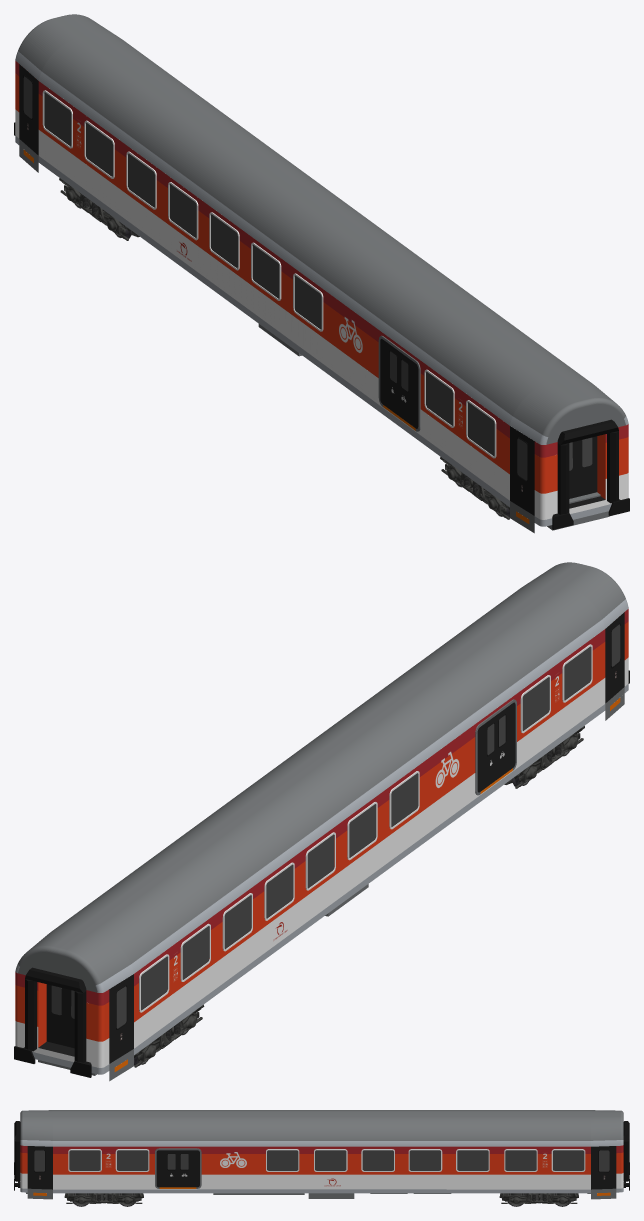
File: bds.glb
3 views of the same model, one above another, from view 1: azimuth 30°, elevation 25°; view 2: azimuth 150°, elevation 25°; view 3: azimuth 270°, elevation 25° (orthographic). The views are drawn at different scales.
Parts seen in each view (by area): view 1: bds.003, okno ampeer.018, DB218_Chassis_Boggies.110, DB218_Chassis_Boggies.111; view 2: bds.003, okno ampeer.018, DB218_Chassis_Boggies.111, DB218_Chassis_Boggies.110; view 3: bds.003, okno ampeer.018, DB218_Chassis_Boggies.110, DB218_Chassis_Boggies.111, bmz podvozok.009, piktogramy bds.001.
Boxes of the visible parts, x1=… form: bds.003: x1=14, y1=14, x2=629, y2=533; okno ampeer.018: x1=42, y1=90, x2=496, y2=458; DB218_Chassis_Boggies.110: x1=59, y1=178, x2=139, y2=240; DB218_Chassis_Boggies.111: x1=440, y1=457, x2=509, y2=519; bds.003: x1=14, y1=562, x2=629, y2=1081; okno ampeer.018: x1=139, y1=644, x2=592, y2=1012; DB218_Chassis_Boggies.111: x1=504, y1=726, x2=584, y2=788; DB218_Chassis_Boggies.110: x1=134, y1=1004, x2=204, y2=1067; bds.003: x1=14, y1=1110, x2=629, y2=1199; okno ampeer.018: x1=68, y1=1148, x2=585, y2=1188; DB218_Chassis_Boggies.110: x1=499, y1=1193, x2=578, y2=1206; DB218_Chassis_Boggies.111: x1=64, y1=1193, x2=143, y2=1206; bmz podvozok.009: x1=26, y1=1192, x2=590, y2=1198; piktogramy bds.001: x1=39, y1=1152, x2=604, y2=1186.
Bounding box in the file's own units: 2.84 × 4.05 × 26.86.
19 materials, 5 textured.
